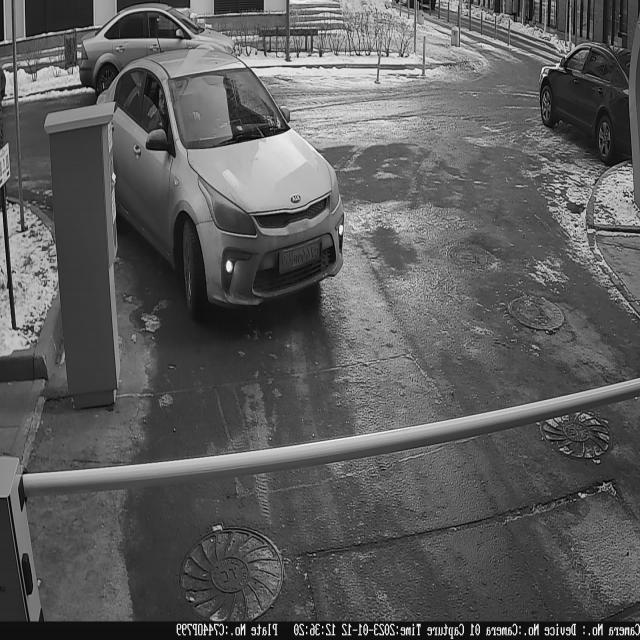car-plate-numbers: (274, 233, 324, 279)
